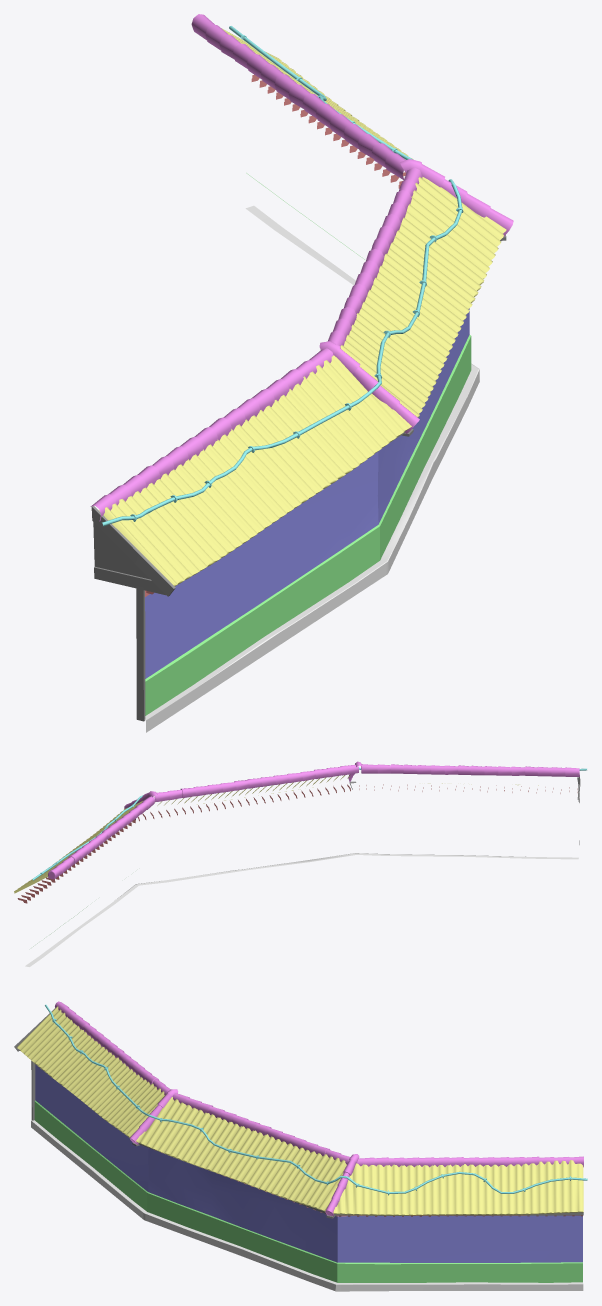
File: SM_ENV_LKNVLD_Hokage_Gate_Wall_Lod1.gltf
3 renders of one model, top to bottom at view 1: azimuth 30°, elevation 25°; view 2: azimuth 150°, elevation 25°; view 3: azimuth 270°, elevation 25°, orthographic. The views are drawn at different scales.
Parts seen in each view (by area): view 1: SM_ENV_LKNVLD_Hokage_Gate_Wall_Lod1; view 2: SM_ENV_LKNVLD_Hokage_Gate_Wall_Lod1; view 3: SM_ENV_LKNVLD_Hokage_Gate_Wall_Lod1.
Part boxes in pixels (x1,y1,x2,y2): SM_ENV_LKNVLD_Hokage_Gate_Wall_Lod1: [90, 14, 513, 732]; SM_ENV_LKNVLD_Hokage_Gate_Wall_Lod1: [14, 761, 586, 966]; SM_ENV_LKNVLD_Hokage_Gate_Wall_Lod1: [14, 1001, 587, 1291].
Size of the model in its own units: 18.99 by 6.07 by 25.6.
